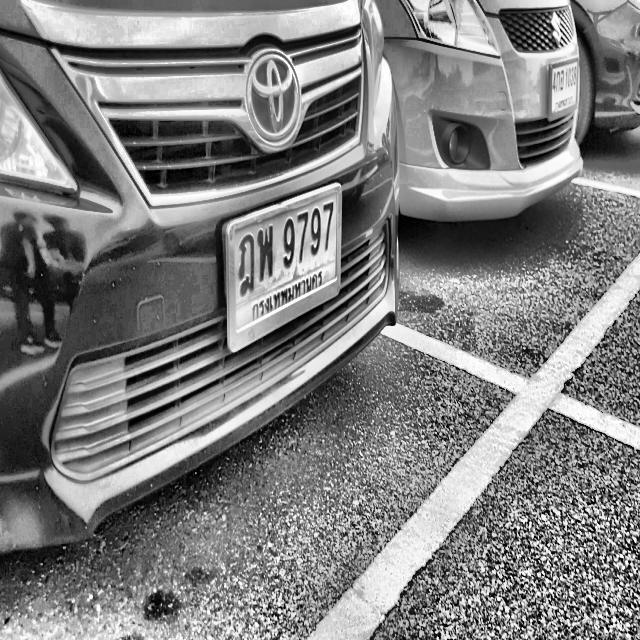license-plate: (220, 177, 342, 360)
